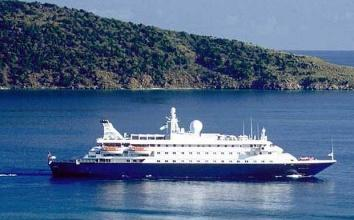youlun: (47, 107, 337, 179)
